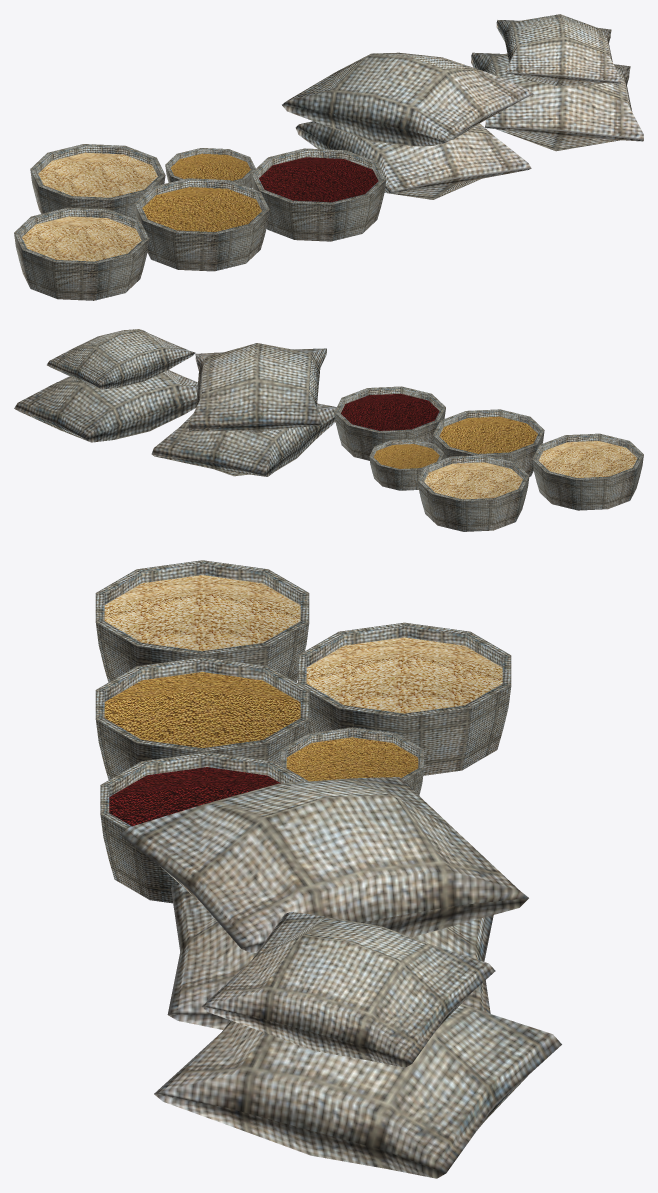
File: grain.fbx
3 views of the same model, one above another, from view 1: azimuth 30°, elevation 25°; view 2: azimuth 150°, elevation 25°; view 3: azimuth 270°, elevation 25° (orthographic). The views are drawn at different scales.
Parts seen in each view (by area): view 1: Object028, pCylinder1, pCylinder2, pCylinder3, Object029, Object027, pCylinder5, Object030, pCylinder4; view 2: Object028, Object029, pCylinder1, pCylinder5, Object027, pCylinder3, Object030, pCylinder2, pCylinder4; view 3: Object028, Object029, Object030, pCylinder5, pCylinder1, pCylinder2, pCylinder3, Object027, pCylinder4.
Boxes of the visible parts, x1,y1,x2,y2 form: Object028: (282, 52, 533, 146); pCylinder1: (14, 207, 149, 300); pCylinder2: (134, 178, 269, 271); pCylinder3: (251, 148, 386, 241); Object029: (471, 52, 643, 151); Object027: (295, 121, 531, 199); pCylinder5: (30, 144, 165, 219); Object030: (496, 14, 621, 86); pCylinder4: (165, 148, 255, 188); Object028: (188, 343, 326, 432); Object029: (14, 370, 197, 442); pCylinder1: (532, 433, 643, 510); pCylinder5: (418, 455, 529, 531); Object027: (151, 403, 336, 476); pCylinder3: (334, 386, 445, 460); Object030: (47, 329, 195, 389); pCylinder2: (433, 409, 544, 476); pCylinder4: (369, 439, 444, 490); Object028: (120, 777, 528, 952); Object029: (154, 1003, 561, 1178); Object030: (201, 912, 495, 1067); pCylinder5: (297, 622, 511, 775); pCylinder1: (95, 560, 309, 682); pCylinder2: (95, 657, 309, 779); pCylinder3: (100, 752, 307, 903); Object027: (167, 884, 493, 1029); pCylinder4: (280, 727, 423, 795).
Bounding box in the file's own units: 55.05 × 10.55 × 19.79.
Materials: 4 (4 with a texture image).
